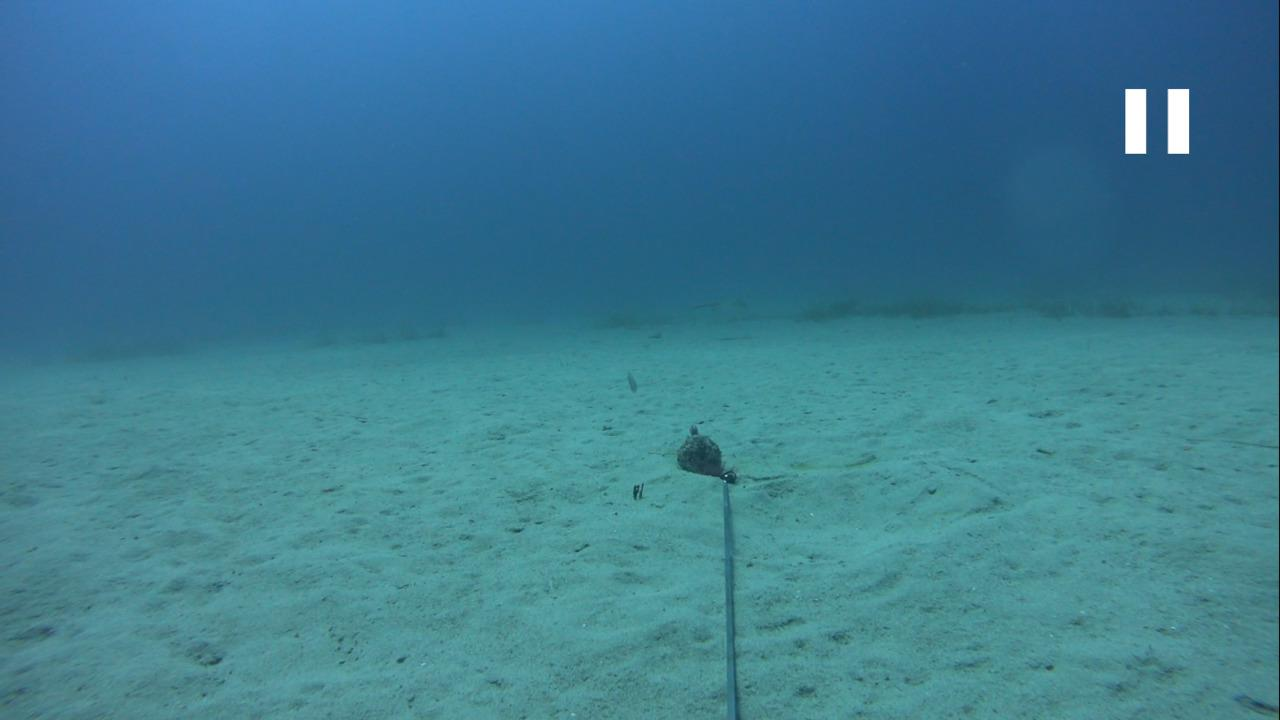myliobatis: (645, 290, 770, 328)
raor: (614, 363, 650, 400)
